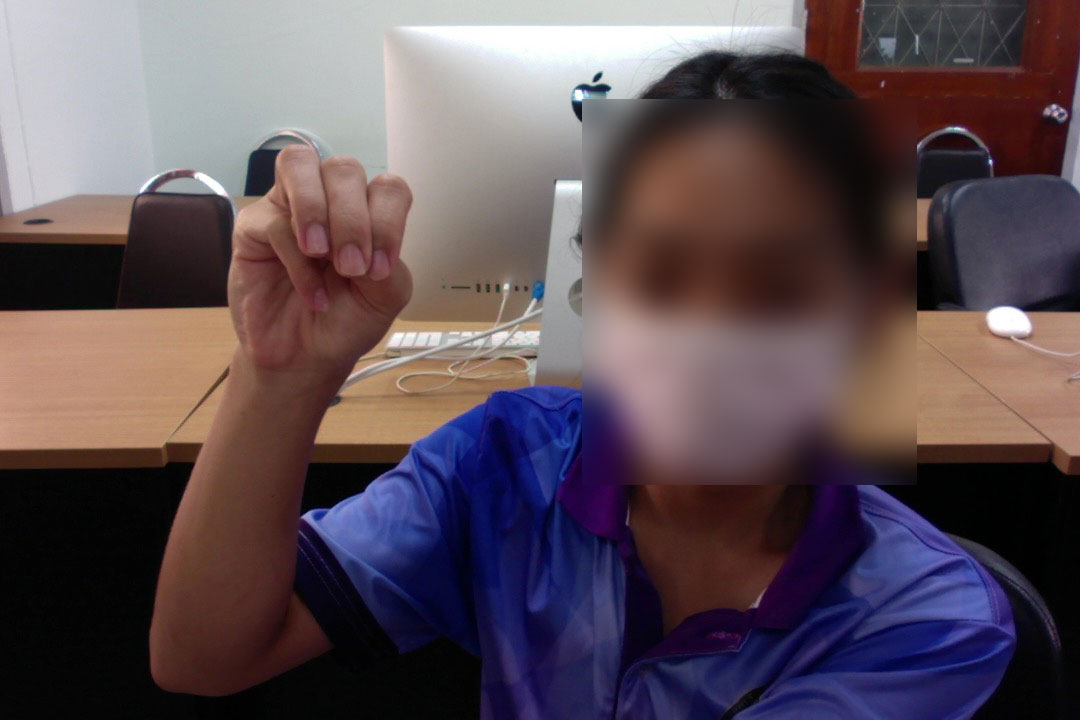mor: (216, 136, 421, 396)
